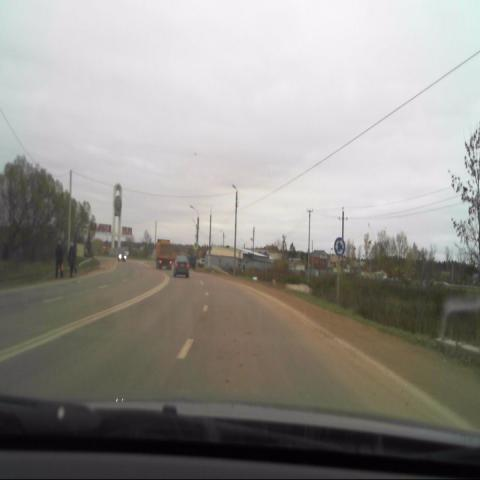4_3: (333, 236, 347, 259)
